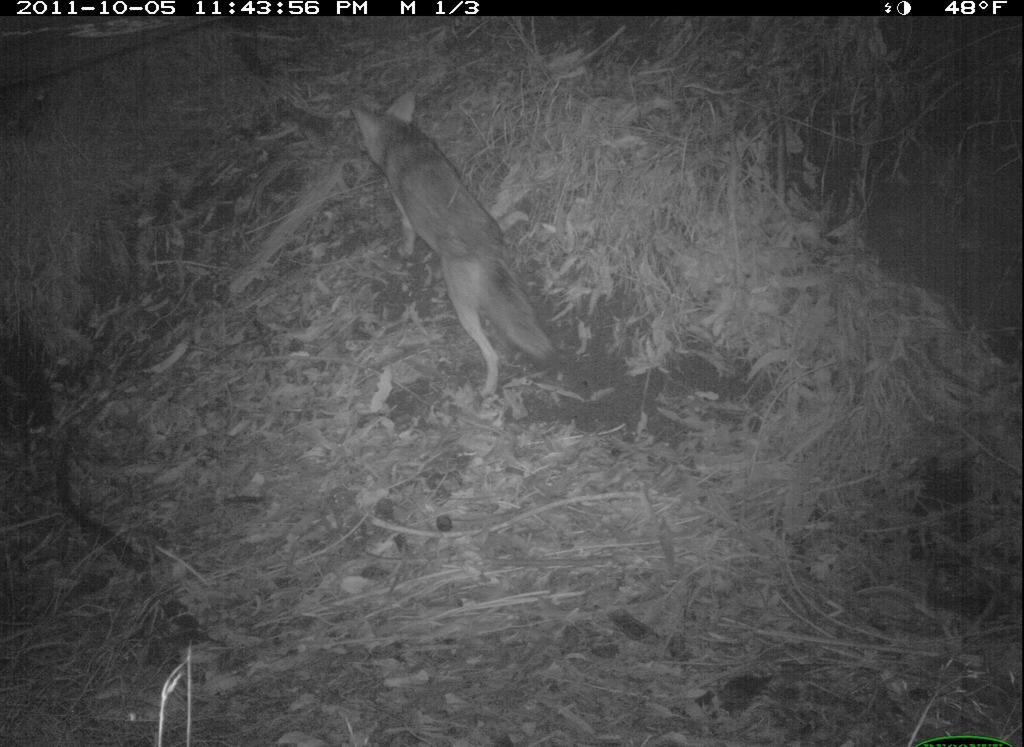coyote: (335, 82, 577, 413)
